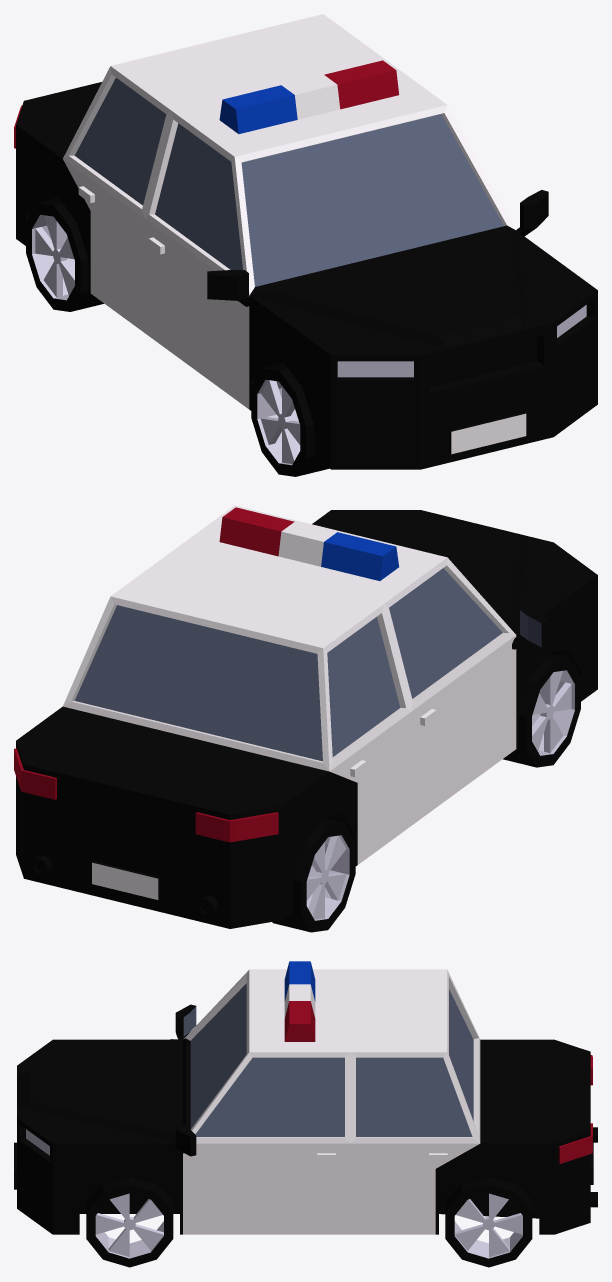
File: Police Sedan.glb
3 renders of one model, top to bottom at view 1: azimuth 30°, elevation 25°; view 2: azimuth 150°, elevation 25°; view 3: azimuth 270°, elevation 25°, orthographic. The views are drawn at different scales.
Parts seen in each view (by area): view 1: Police Sedan; view 2: Police Sedan; view 3: Police Sedan.
Part boxes in pixels (<box>): Police Sedan: <box>14,14,597,476</box>; Police Sedan: <box>14,505,597,932</box>; Police Sedan: <box>14,961,597,1267</box>.
Size of the model in its own units: 0.6168 by 0.4801 by 1.15.
